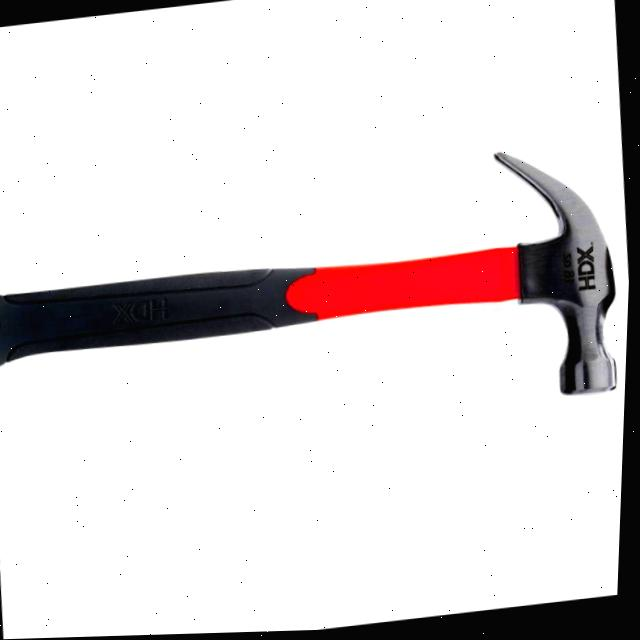hammer: (0, 133, 636, 474)
